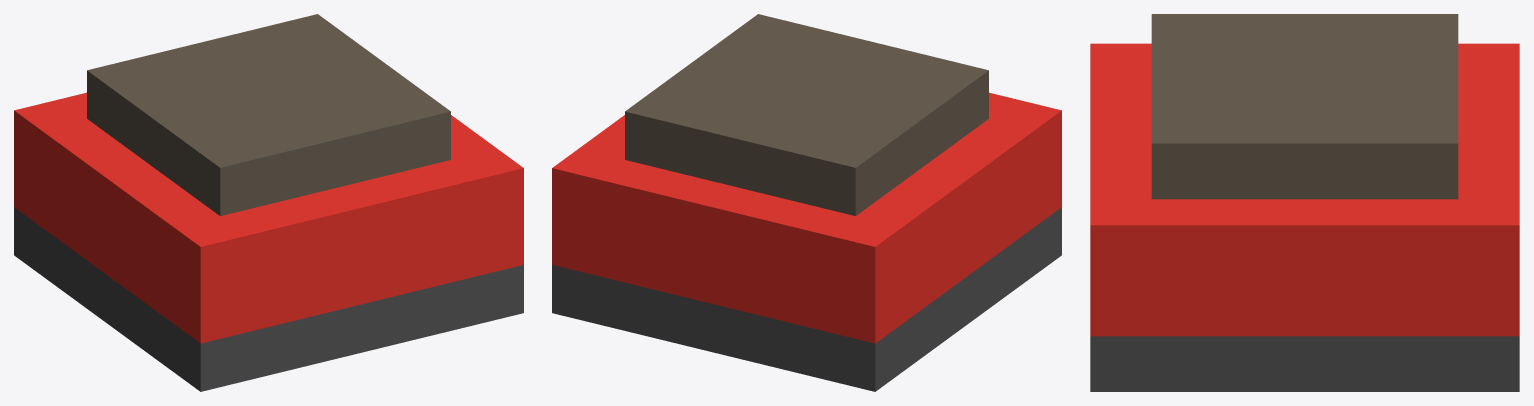
Rendered from WeaponTargeting#1.obj.
3 renders of one model, left to right at view 1: azimuth 30°, elevation 25°; view 2: azimuth 150°, elevation 25°; view 3: azimuth 270°, elevation 25°, orthographic. The views are drawn at different scales.
Size of the model in its own units: 0.7 by 0.5 by 0.7.
